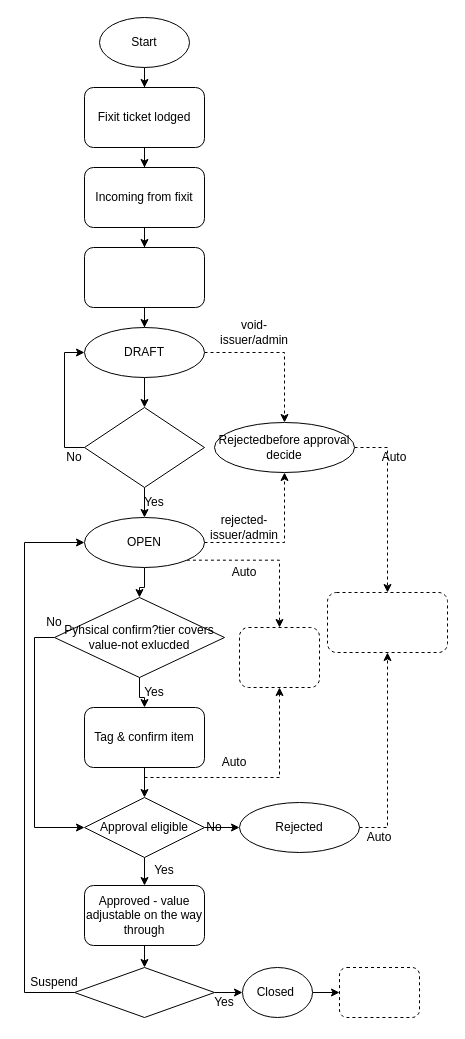
This 465x1039 diagram has some shape labels left out. Each missing label, with the centre of its shape:
Executed: the point at 144,992
Fixit ticker - cancelled: the point at 387,622
Fixit ticker - completed: the point at 379,992
Fixit ticker - in progress: the point at 279,657
Open case - dept locked, pick case type: the point at 144,277
Open?: the point at 144,447
